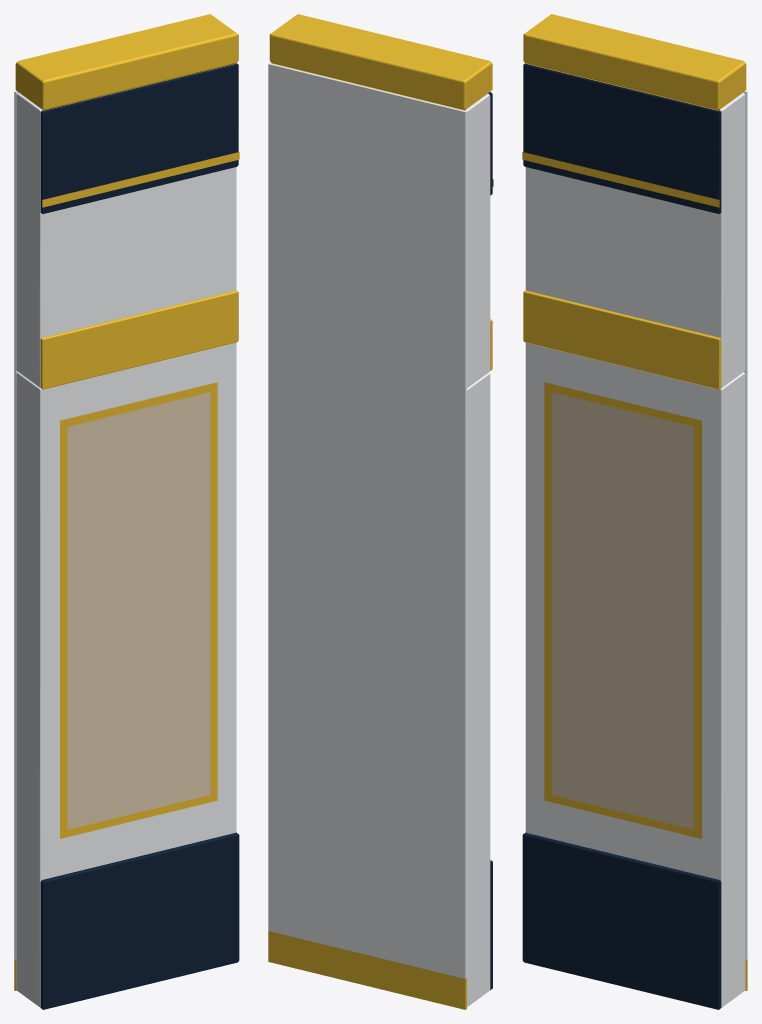
Rendered from CM_Shell_Wall_Luxury.fbx.
3 views of the same model, side by side, from view 1: azimuth 30°, elevation 25°; view 2: azimuth 150°, elevation 25°; view 3: azimuth 330°, elevation 25° (orthographic).
Visible parts, largest first — view 1: Body; view 2: Body; view 3: Body.
Part boxes in pixels (bbox=[...]): Body: bbox=[14, 14, 239, 1009]; Body: bbox=[268, 14, 493, 1009]; Body: bbox=[522, 14, 747, 1009].
Size of the model in its own units: 4 by 1 by 18.
1 material, 1 textured.
